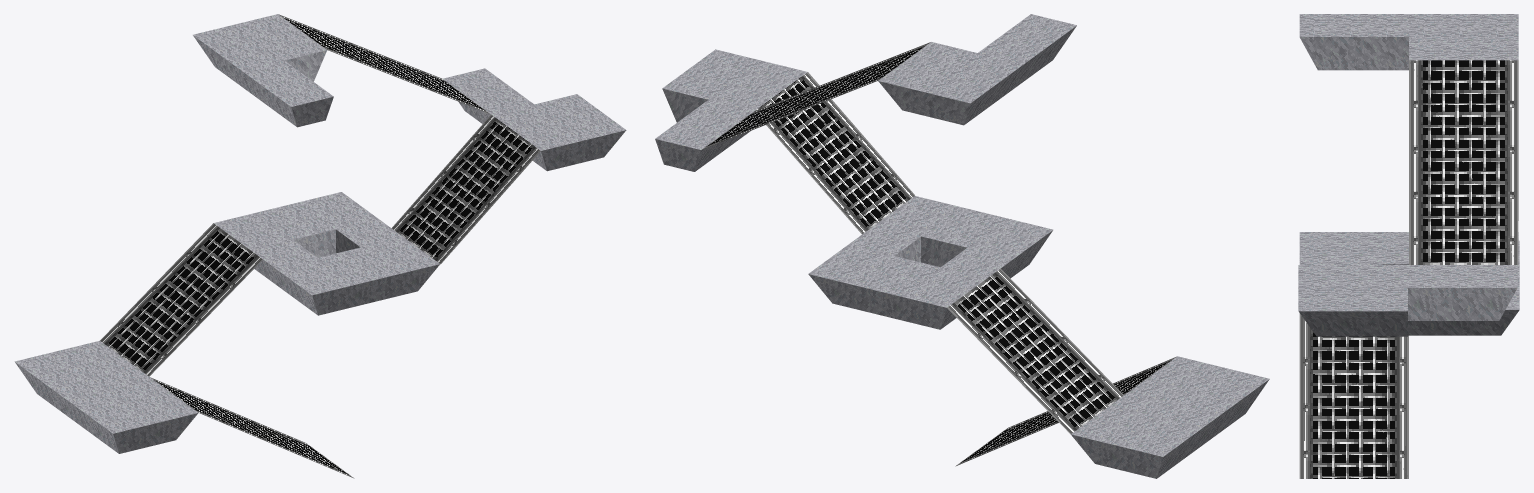
Rendered from km2_nobiru.obj.
3 renders of one model, left to right at view 1: azimuth 30°, elevation 25°; view 2: azimuth 150°, elevation 25°; view 3: azimuth 270°, elevation 25°, orthographic. The views are drawn at different scales.
Parts seen in each view (by area): view 1: world_root; view 2: world_root; view 3: world_root.
Boxes of the visible parts, x1,y1,x2,y2 form: world_root: (14,14,626,478); world_root: (655,14,1269,478); world_root: (1298,14,1519,478).
Size of the model in its own units: 450 by 325 by 151.
